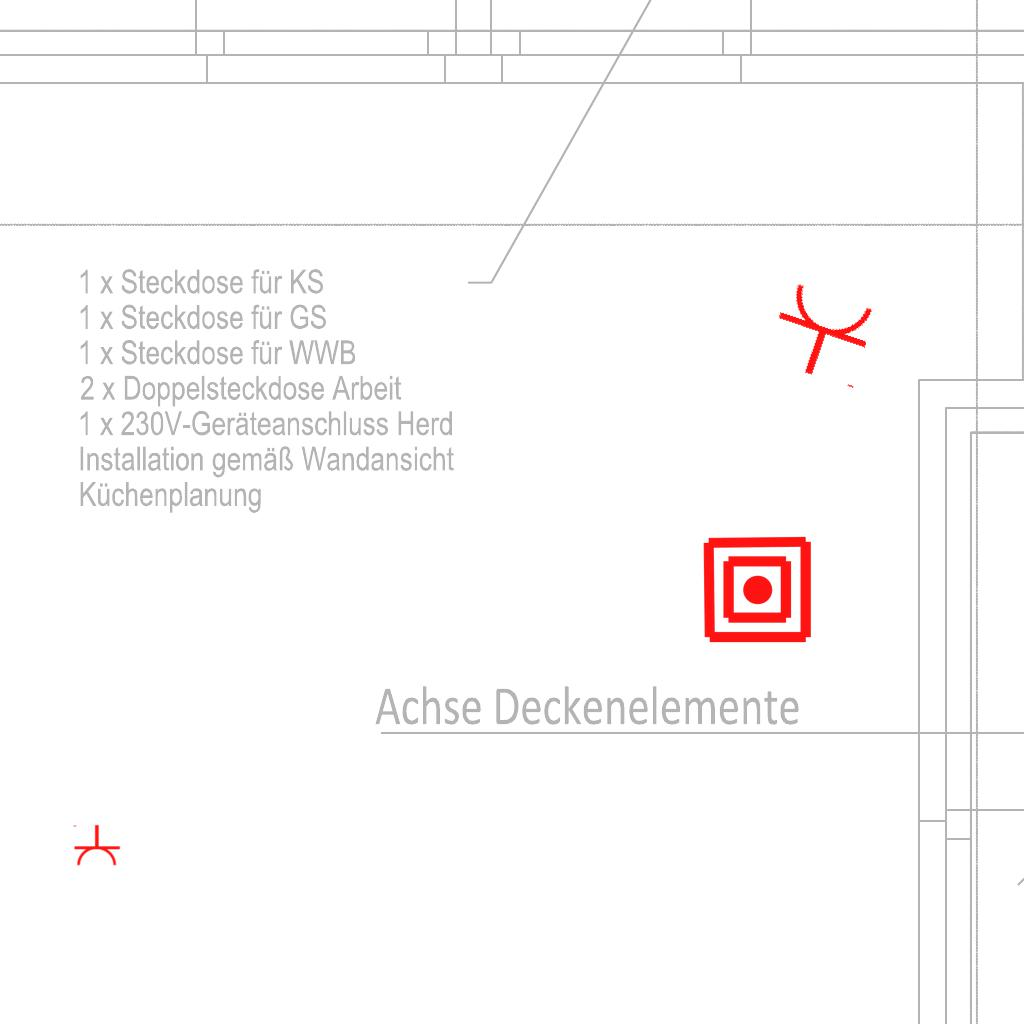NAM-Nichtautomatischer_Melder: (701, 533, 814, 646)
Schukosteckdose_einfach: (762, 277, 885, 393), (71, 824, 121, 867)
